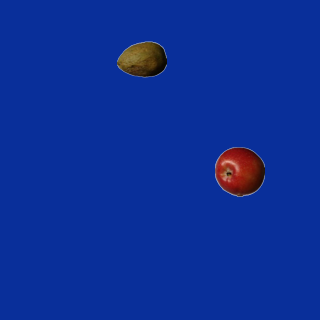Apple Braeburn: (214, 146, 264, 196)
Papaya: (116, 34, 166, 84)
